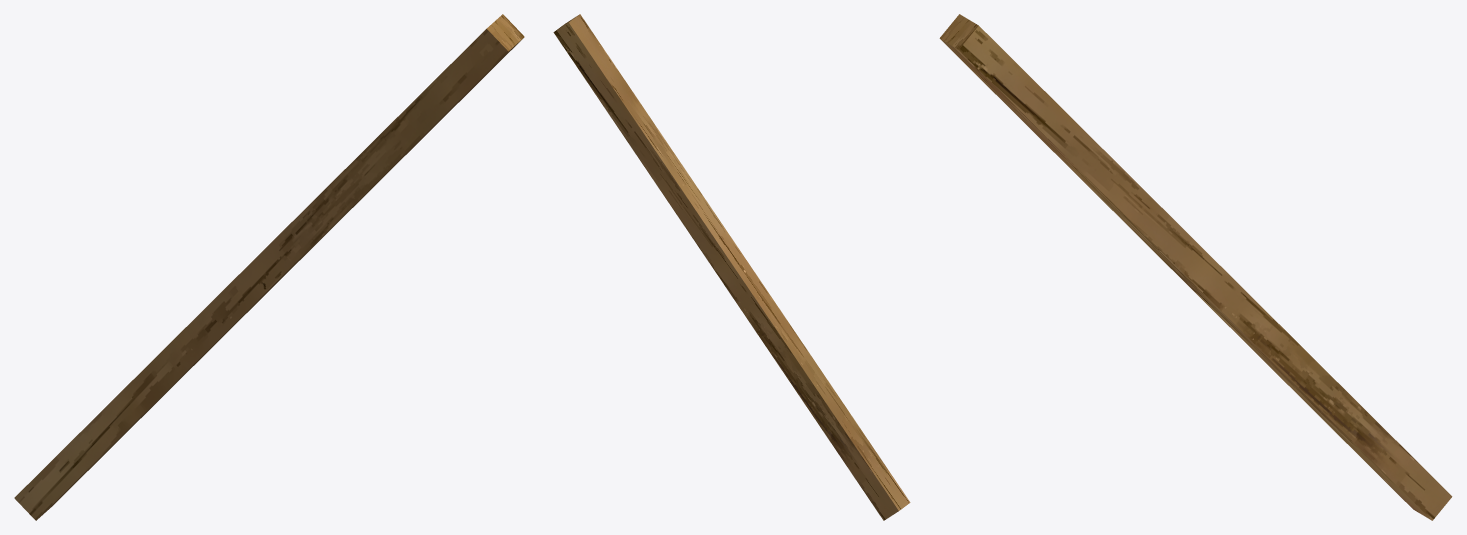
File: Prank001.FBX
3 views of the same model, side by side, from view 1: azimuth 30°, elevation 25°; view 2: azimuth 210°, elevation 25°; view 3: azimuth 270°, elevation 25° (orthographic). The views are drawn at different scales.
Visible parts, largest first — view 1: Prank001; view 2: Prank001; view 3: Prank001.
Part boxes in pixels (<box>): Prank001: <box>14,14,524,520</box>; Prank001: <box>553,14,910,520</box>; Prank001: <box>939,14,1452,520</box>.
Bounding box in the file's own units: 48.28 × 101 × 77.73.
